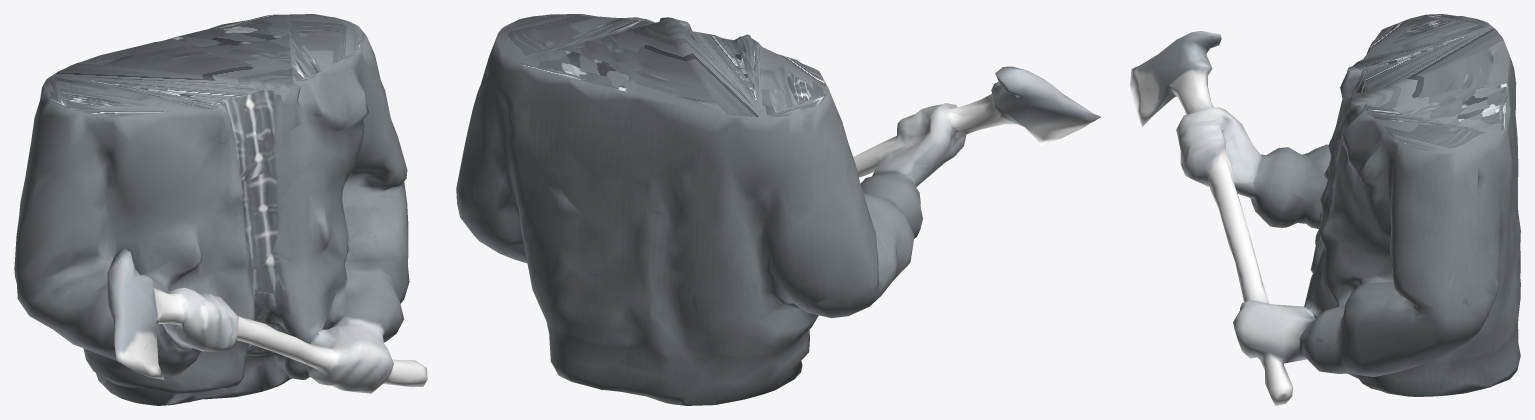
The model's file is statue-torso.glb.
3 views of the same model, side by side, from view 1: azimuth 30°, elevation 25°; view 2: azimuth 150°, elevation 25°; view 3: azimuth 270°, elevation 25° (orthographic). The views are drawn at different scales.
Visible parts, largest first — view 1: torso; view 2: torso; view 3: torso.
Part boxes in pixels (bbox=[...]): torso: bbox=[14, 14, 427, 405]; torso: bbox=[456, 14, 1100, 405]; torso: bbox=[1130, 14, 1520, 405].
Bounding box in the file's own units: 0.766 × 0.4695 × 0.6221.
Materials: 1 (1 with a texture image).
